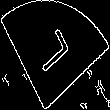L_SW: (33, 28, 77, 82)
